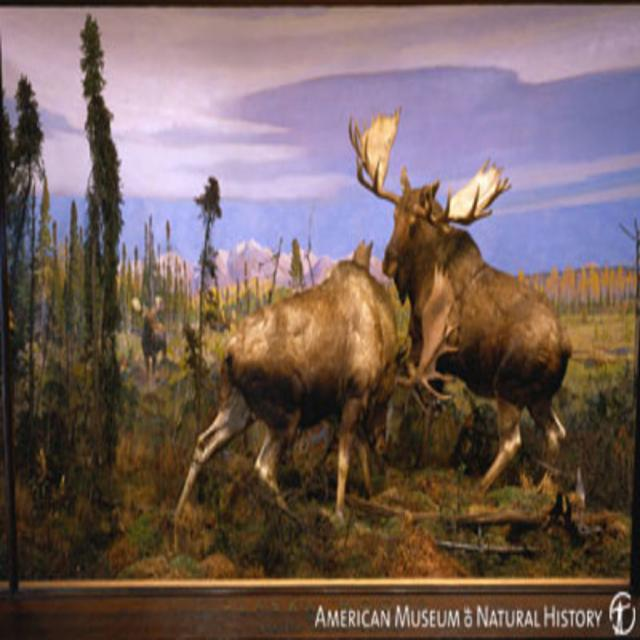Deer: (346, 99, 573, 497), (172, 238, 459, 552), (134, 294, 168, 378)
